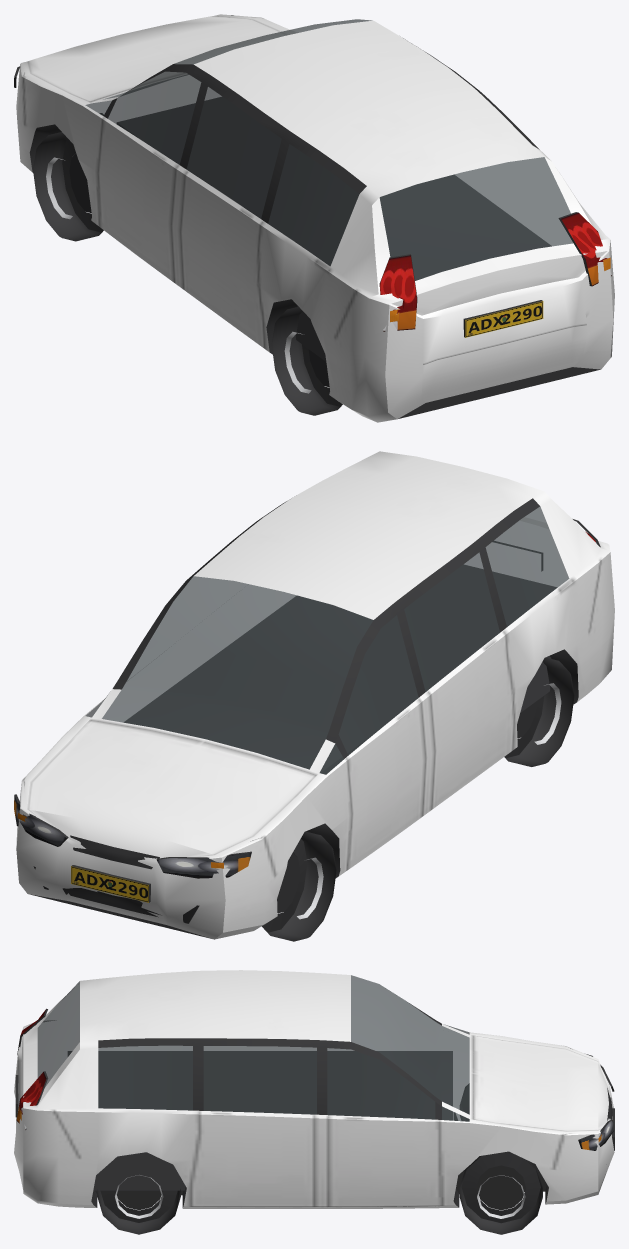
Rendered from wagon_wish_lod1.glb.
The picture shows the model from 3 angles, top to bottom: view 1: azimuth 30°, elevation 25°; view 2: azimuth 150°, elevation 25°; view 3: azimuth 270°, elevation 25°; orthographic projection. The views are drawn at different scales.
Parts seen in each view (by area): view 1: body, wheel_fl_mesh, wheel_rl_mesh; view 2: body, wheel_fl_mesh, wheel_rl_mesh; view 3: body, wheel_fr_mesh, wheel_rr_mesh.
Boxes of the visible parts, x1=… form: body: x1=14, y1=14, x2=614, y2=422; wheel_fl_mesh: x1=33, y1=132, x2=103, y2=241; wheel_rl_mesh: x1=271, y1=306, x2=342, y2=415; body: x1=14, y1=451, x2=614, y2=939; wheel_fl_mesh: x1=262, y1=831, x2=336, y2=941; wheel_rl_mesh: x1=504, y1=657, x2=574, y2=766; body: x1=14, y1=970, x2=614, y2=1208; wheel_fr_mesh: x1=459, y1=1152, x2=542, y2=1234; wheel_rr_mesh: x1=97, y1=1175, x2=180, y2=1234.
Size of the model in its own units: 1.7 by 1.59 by 4.56.
10 materials, 5 textured.
